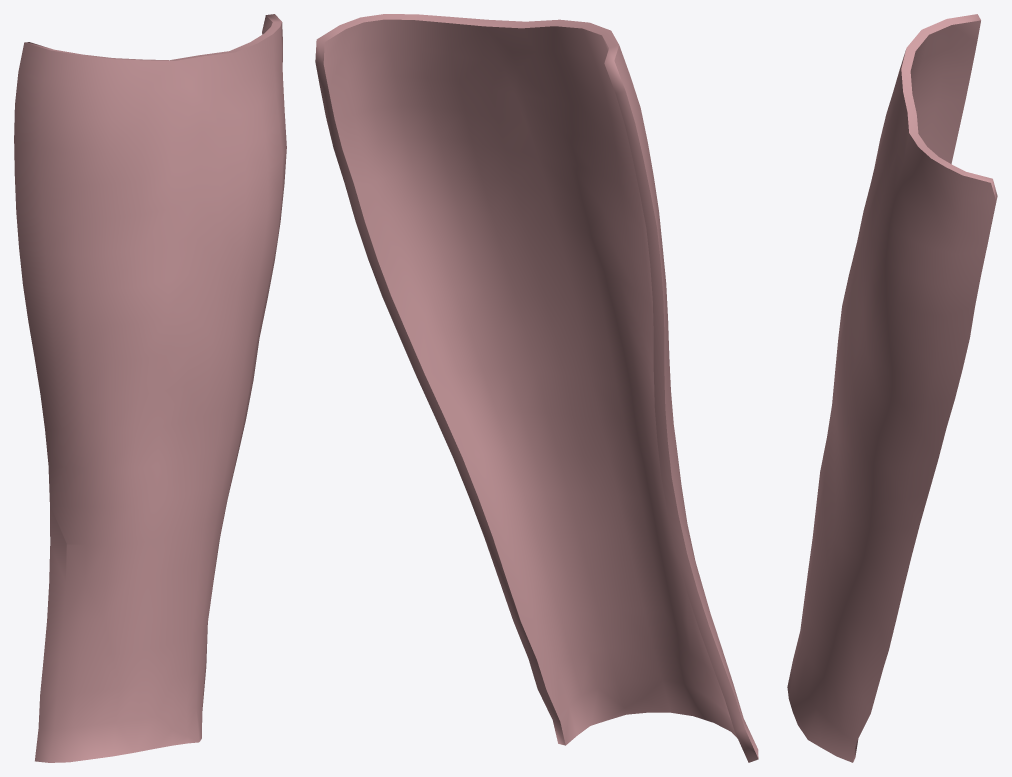
3 views of the same model, side by side, from view 1: azimuth 30°, elevation 25°; view 2: azimuth 150°, elevation 25°; view 3: azimuth 270°, elevation 25° (orthographic). The views are drawn at different scales.
Visible parts, largest first — view 1: ZA_17bf4bea0a9ee08c; view 2: ZA_17bf4bea0a9ee08c; view 3: ZA_17bf4bea0a9ee08c.
Boxes of the visible parts, x1,y1,x2,y2 form: ZA_17bf4bea0a9ee08c: [14, 14, 286, 762]; ZA_17bf4bea0a9ee08c: [315, 14, 758, 762]; ZA_17bf4bea0a9ee08c: [787, 14, 997, 762].
Size of the model in its own units: 0.1153 by 0.2361 by 0.0648.
